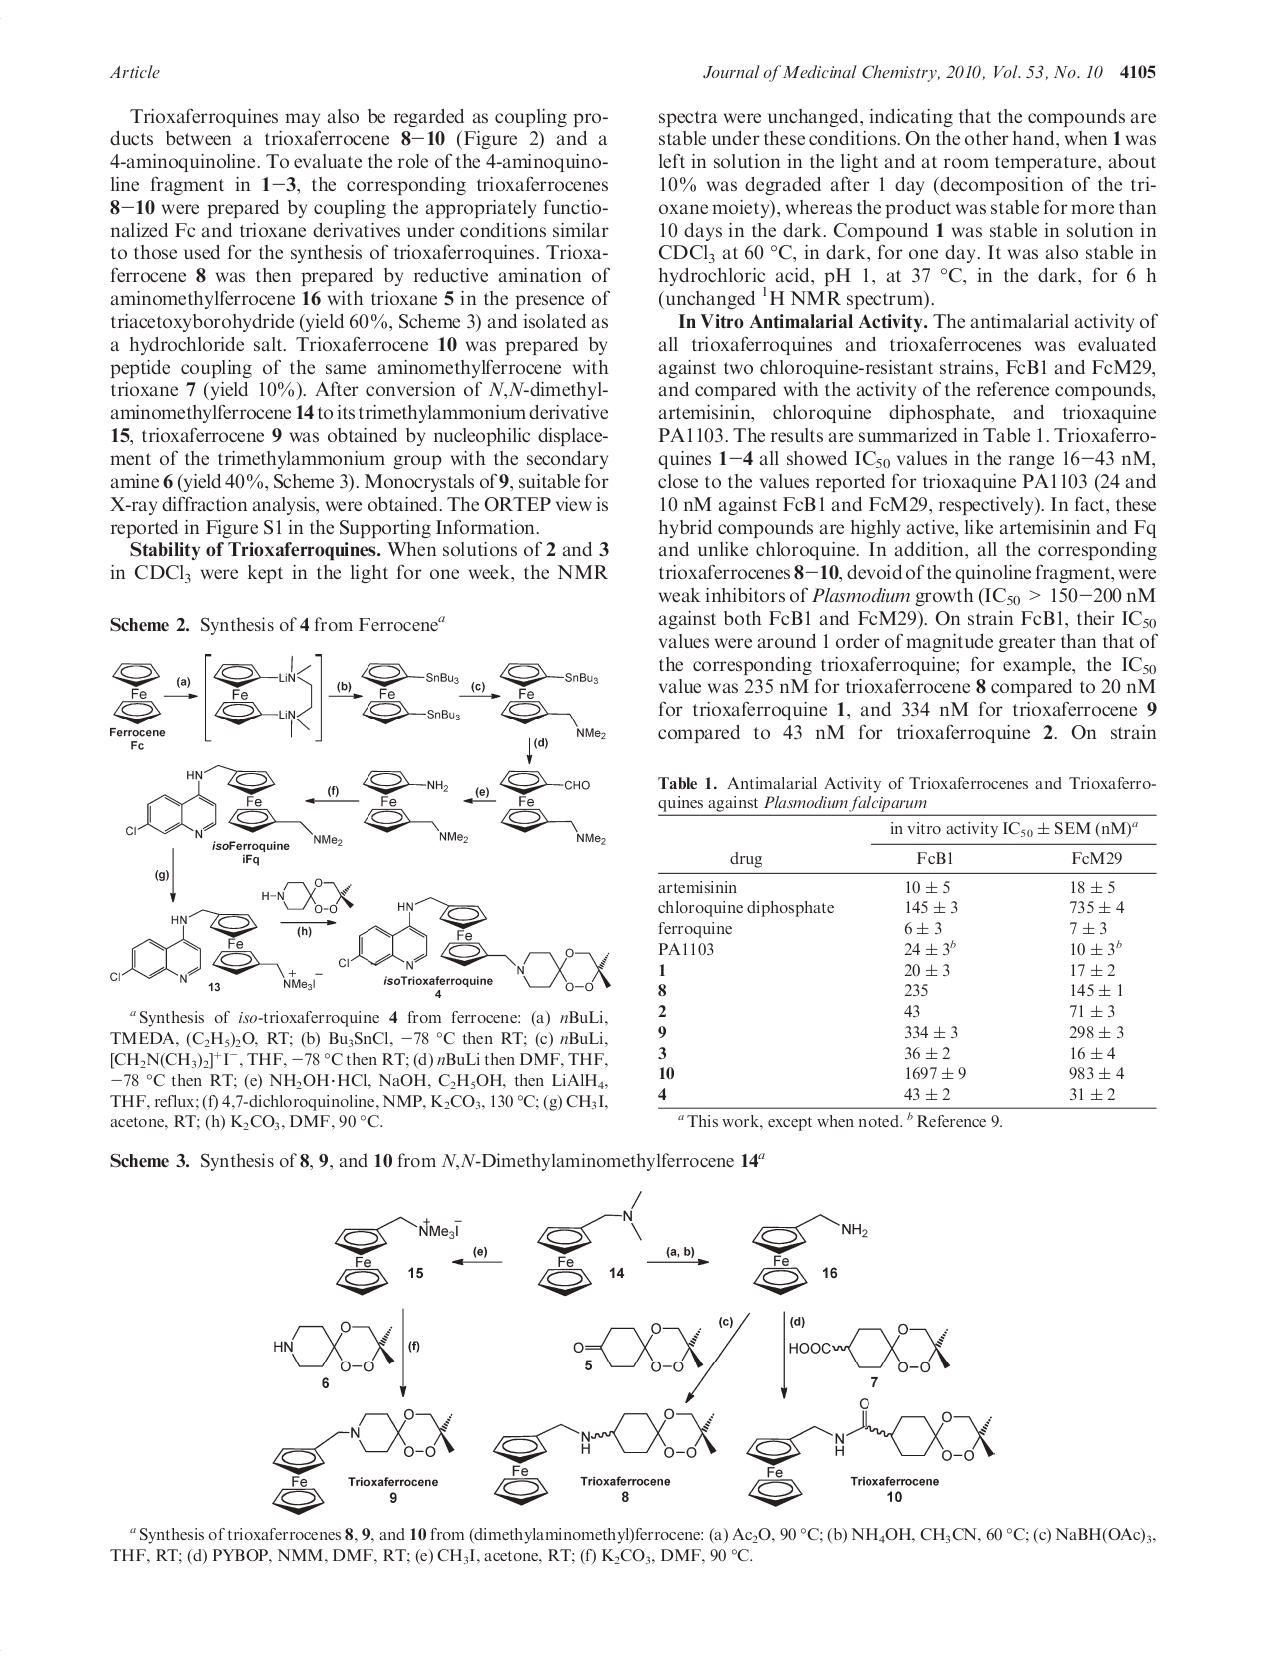exist_molecular: (340, 895, 616, 997), (747, 1400, 996, 1508), (114, 758, 351, 856), (485, 1408, 718, 1507), (271, 1404, 456, 1519), (106, 902, 327, 995), (533, 1184, 652, 1298), (323, 1210, 461, 1301), (493, 657, 614, 745), (493, 759, 606, 851), (751, 1210, 872, 1295), (356, 762, 469, 848), (787, 1321, 957, 1374), (564, 1321, 713, 1379), (203, 656, 313, 735), (271, 1314, 399, 1376), (356, 657, 461, 731), (251, 874, 364, 927), (104, 656, 172, 743)
